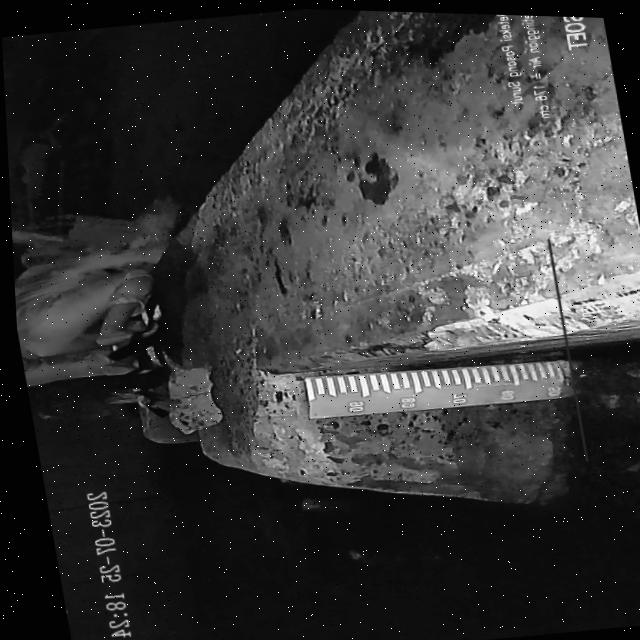water-meter: (292, 339, 576, 436)
